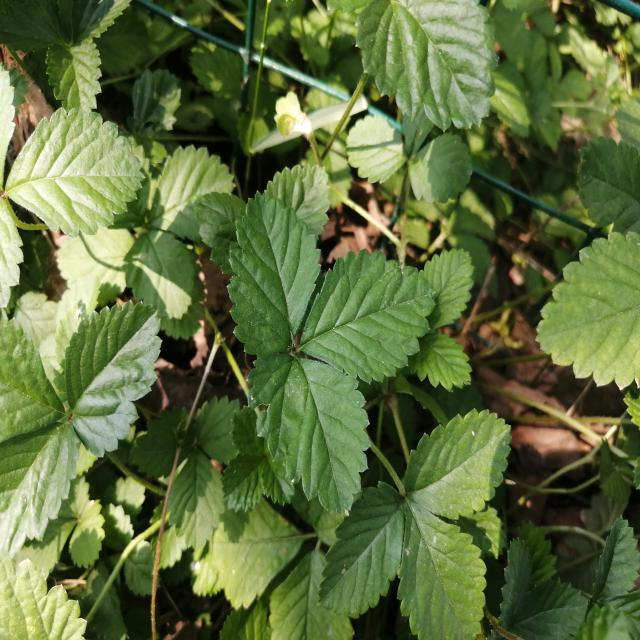Mock_strawberry: (233, 184, 447, 510)
